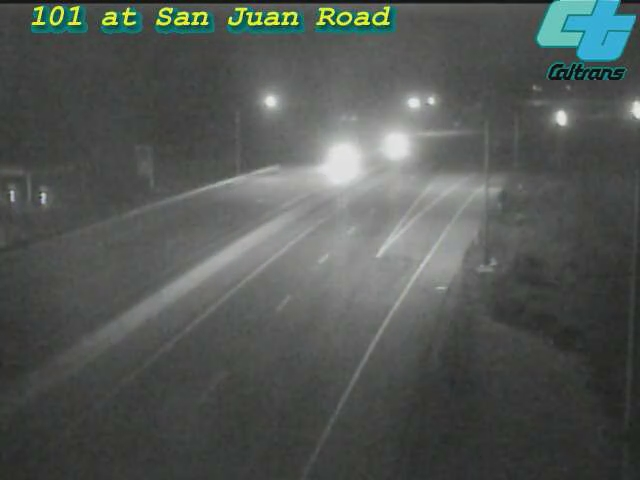vehicle: (317, 131, 367, 181), (364, 120, 414, 170), (537, 94, 587, 144), (609, 86, 640, 136)
